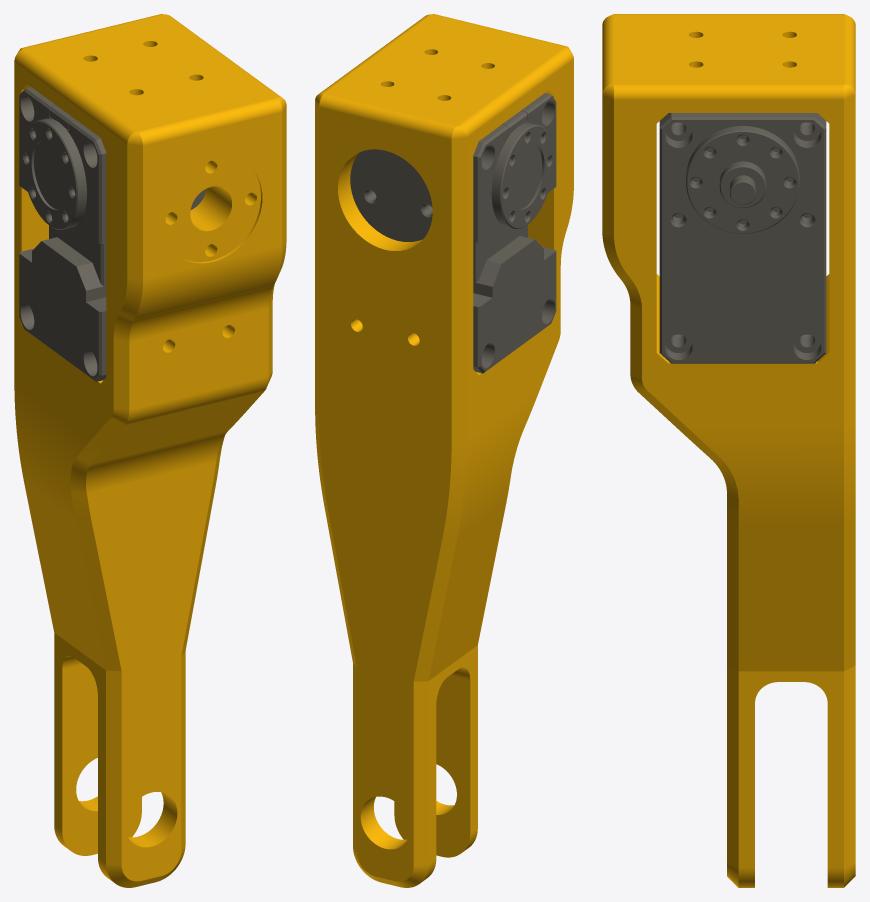
File: right_femur.dae
The picture shows the model from 3 angles, left to right: view 1: azimuth 30°, elevation 25°; view 2: azimuth 150°, elevation 25°; view 3: azimuth 270°, elevation 25°; orthographic projection. The views are drawn at different scales.
Parts seen in each view (by area): view 1: Part 1, DUMMY_DC12; view 2: Part 1, DUMMY_DC12; view 3: Part 1, DUMMY_DC12.
Part boxes in pixels (left/top/right/bottom): Part 1: left=14, top=14, right=286, bottom=887; DUMMY_DC12: left=19, top=87, right=206, bottom=381; Part 1: left=315, top=14, right=573, bottom=887; DUMMY_DC12: left=350, top=93, right=556, bottom=373; Part 1: left=602, top=14, right=855, bottom=887; DUMMY_DC12: left=659, top=113, right=826, bottom=363.
Size of the model in its own units: 0.0424 by 0.0433 by 0.1565.
